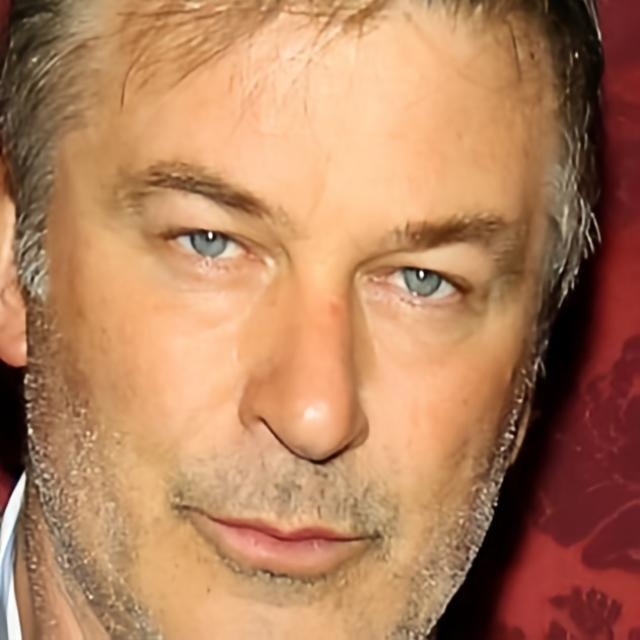content: (32, 0, 560, 640)
